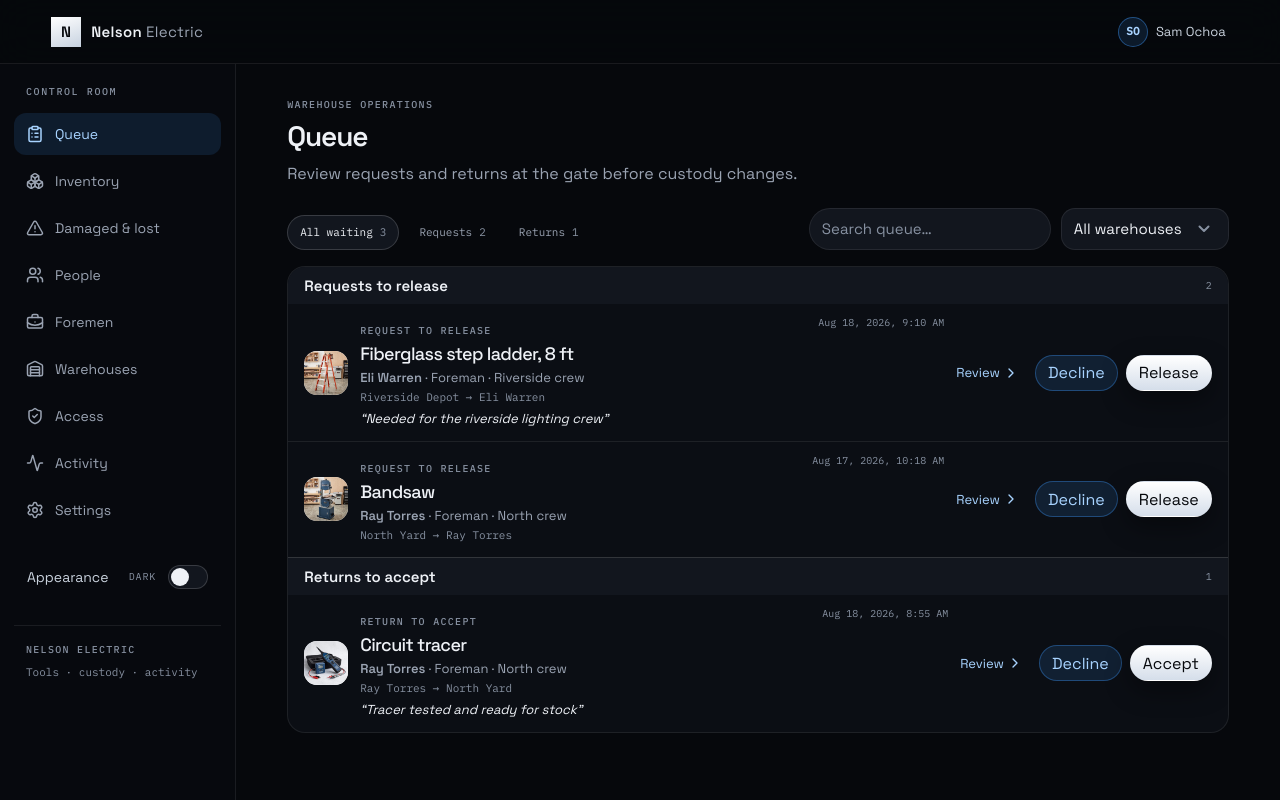
Test: warehouse operations surfaces › releases the seeded request directly from the queue and updates inventory
expect the heading "Queue" is shown: met, box [287, 118, 368, 154]
expect the text "Bandsaw" is shown: met, box [360, 480, 435, 503]
Click the button with aria-label "Release for Bandsaw".
click(1169, 500)  # box [1126, 482, 1212, 518]
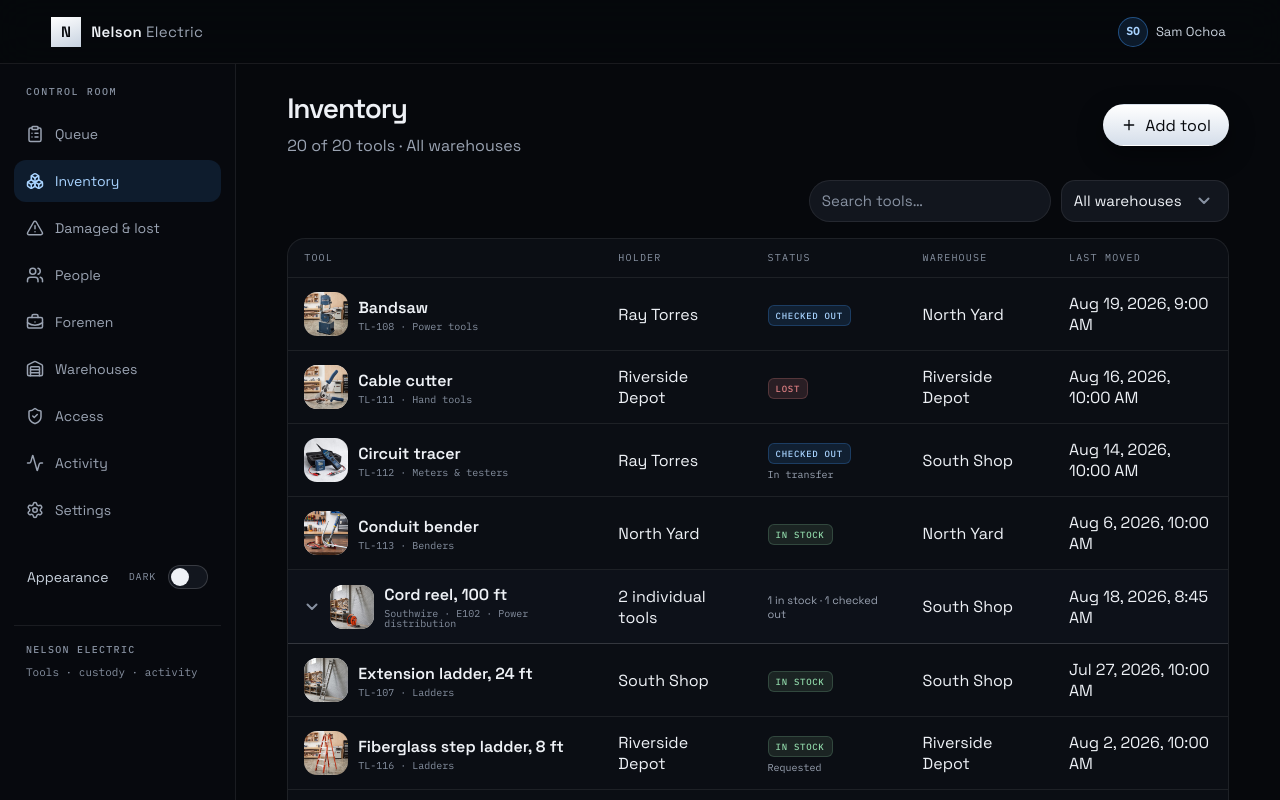
expect the heading "Inventory" is shown: met, box [287, 90, 407, 126]
expect the button "Bandsaw" shows "Ray Torres": met, box [288, 278, 1228, 351]
